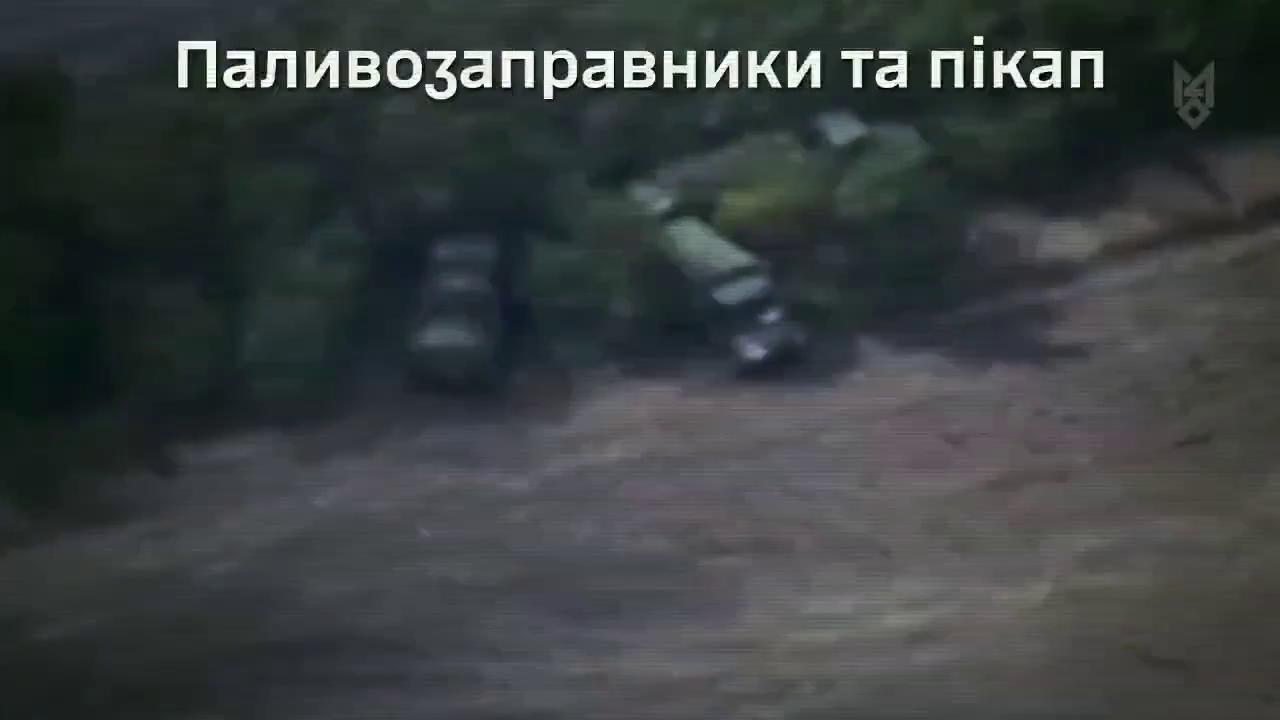tank: (644, 107, 933, 228), (648, 213, 806, 384), (403, 231, 508, 395)
